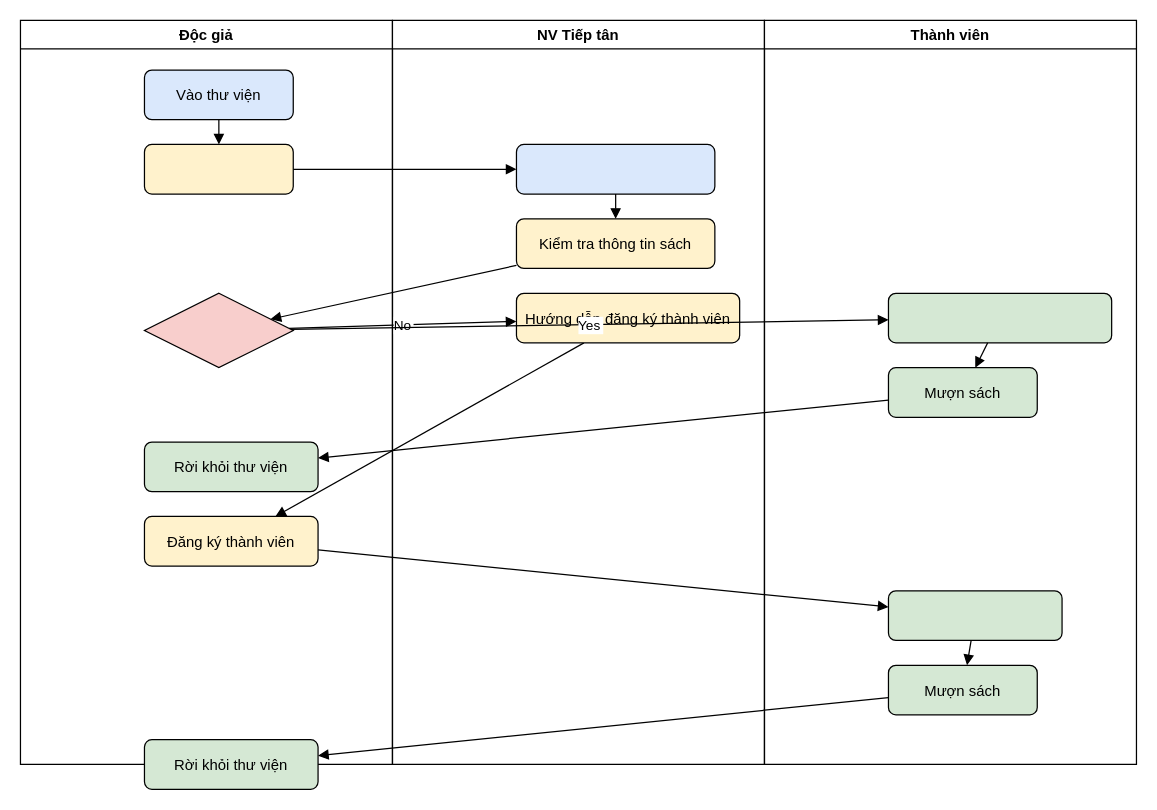
Image size: 1157x810. Some labels were removed from this diagram. The shapes that lost their labels are listed below. From the top down, each one's box as (x1, y1, x2, y2) in pixels, then its label:
(143, 143, 293, 194): Chọn tìm sách
(515, 143, 715, 194): Tiếp nhận yêu cầu tìm sách
(143, 292, 293, 368): Đã là thành viên?
(887, 292, 1112, 343): Xác nhận thông tin thành viên
(887, 590, 1062, 640): Xác nhận đăng ký
